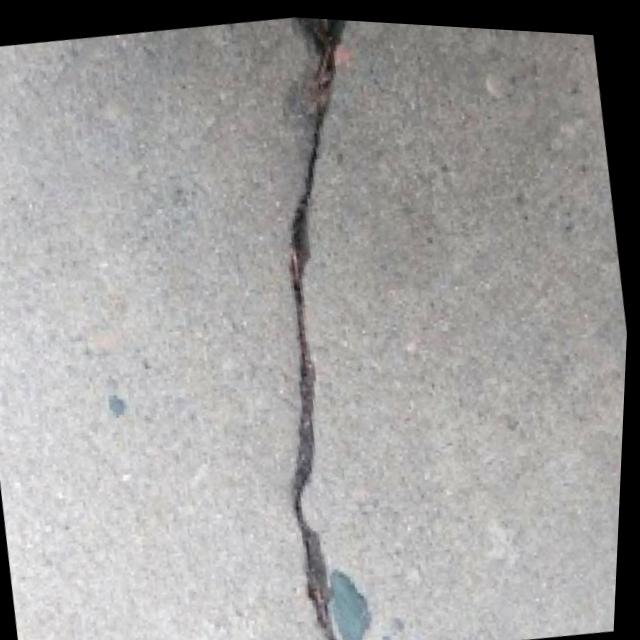Crack: (189, 10, 474, 640)
